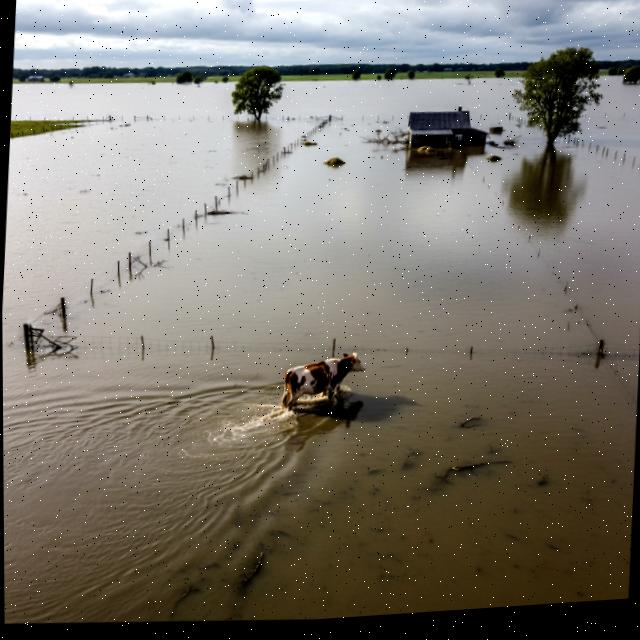cow: (274, 342, 378, 428)
